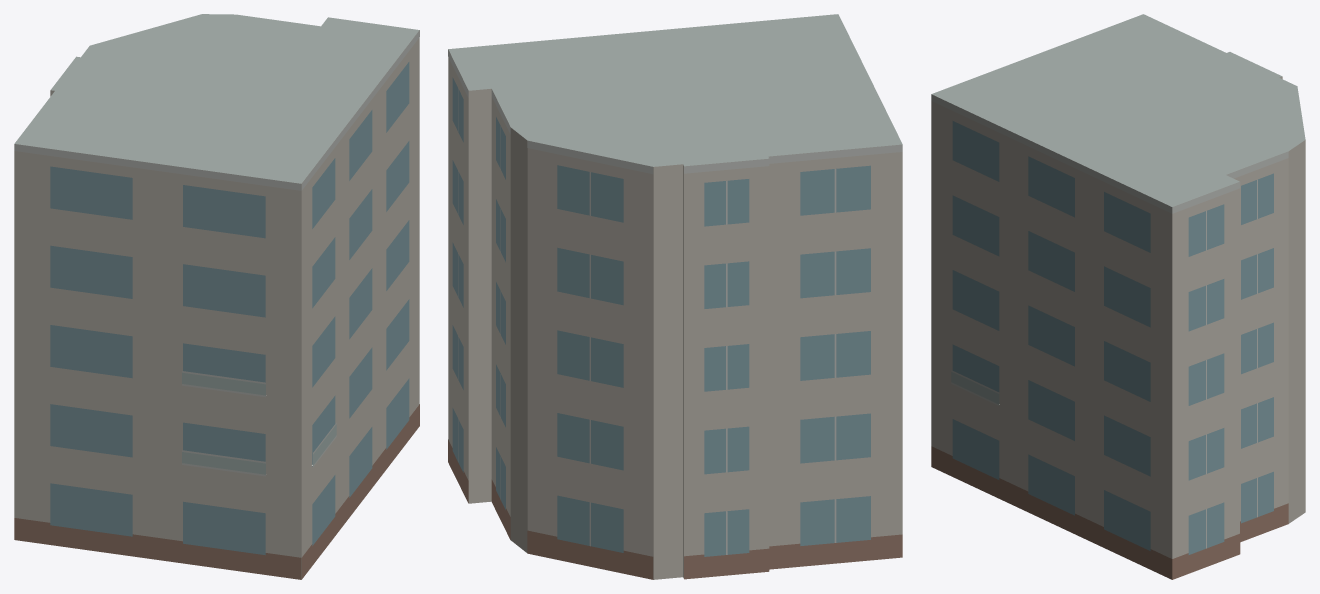
File: survey-upis-33014684.glb
3 renders of one model, left to right at view 1: azimuth 30°, elevation 25°; view 2: azimuth 150°, elevation 25°; view 3: azimuth 270°, elevation 25°, orthographic. The views are drawn at different scales.
Visible parts, largest first — view 1: survey-upis-33014684.tmp; view 2: survey-upis-33014684.tmp; view 3: survey-upis-33014684.tmp.
Part boxes in pixels (box(x1,y1,x2,y2)): survey-upis-33014684.tmp: box(14, 14, 419, 579); survey-upis-33014684.tmp: box(448, 14, 902, 579); survey-upis-33014684.tmp: box(931, 14, 1305, 579).
Size of the model in its own units: 15.13 by 13.6 by 12.39.
